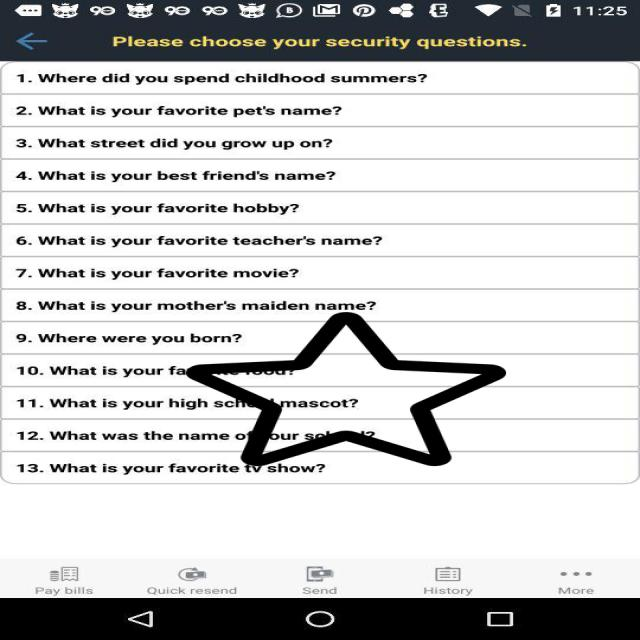forced continuity: (186, 309, 506, 469)
